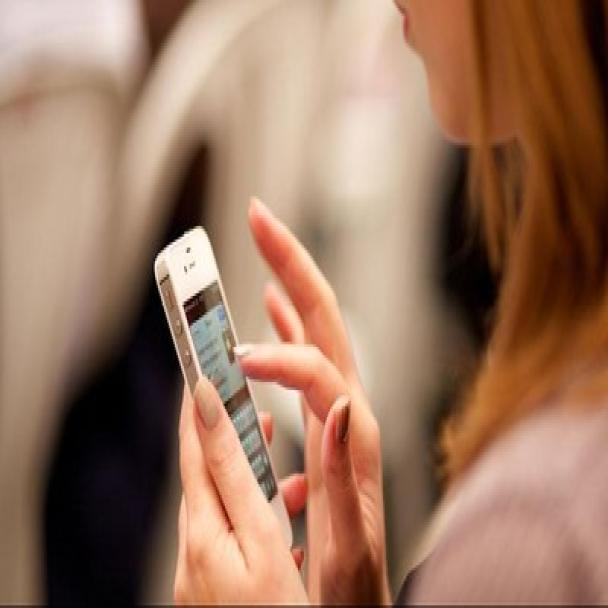Handphone: (152, 224, 295, 579)
